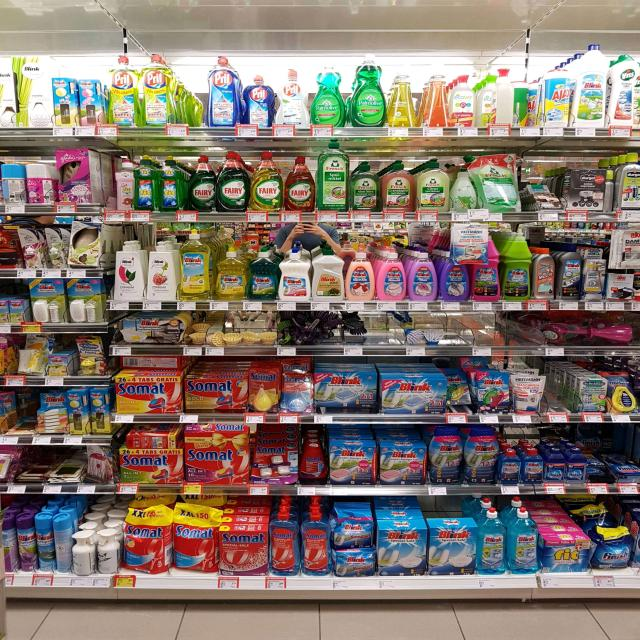unorganised: (55, 144, 106, 206), (544, 314, 636, 344), (314, 371, 379, 412), (497, 62, 532, 127), (593, 523, 637, 572), (242, 69, 276, 130), (72, 531, 117, 574), (334, 513, 373, 551), (26, 162, 55, 207), (52, 514, 73, 573), (84, 446, 117, 482), (122, 429, 181, 448), (1, 161, 26, 204), (447, 379, 476, 410)
